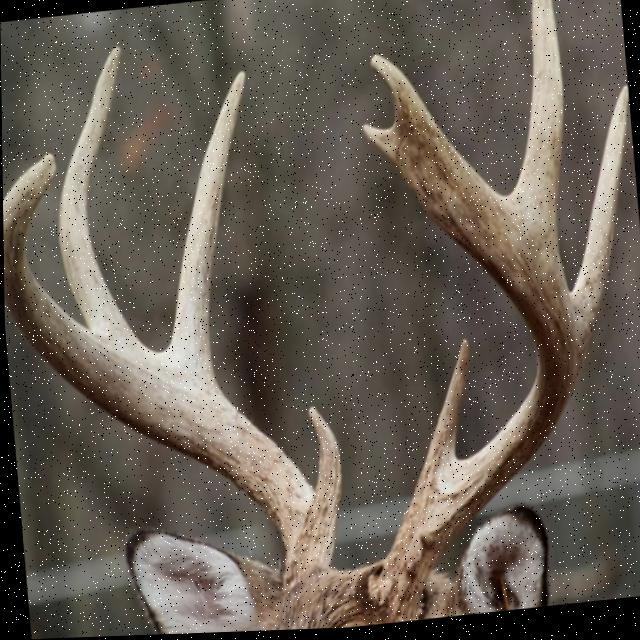E1: (369, 56, 434, 133)
L-F: (361, 126, 575, 625)
L-G1: (423, 342, 468, 470)
L-G2: (568, 87, 628, 386)
L-G3: (509, 0, 563, 247)
R-F: (2, 152, 332, 594)
R-G1: (303, 404, 341, 543)
R-G2: (165, 70, 246, 379)
R-G3: (58, 46, 129, 338)
